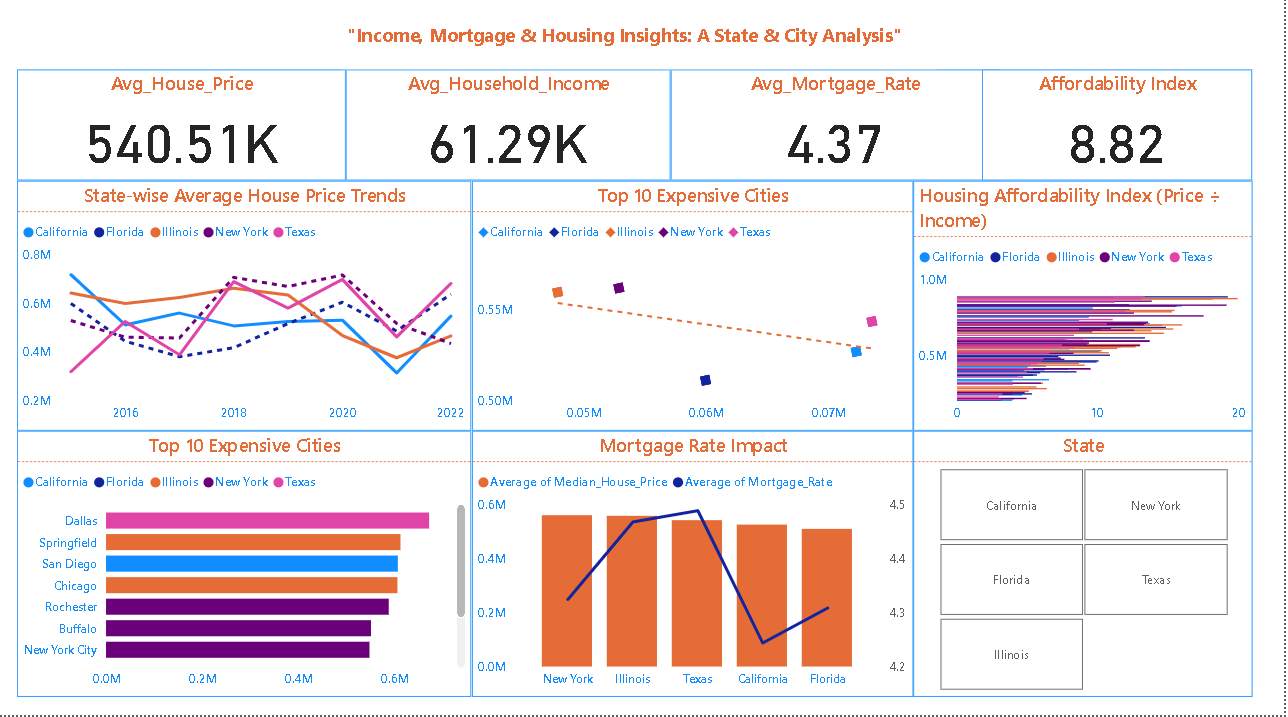

The dashboard page shown, as its layout file describes it:
{"tool":"powerbi","page":{"name":"Dashboard","canvas":[1280,720],"ordinal":0},"visuals":[{"type":"lineChart","title":"State-wise Average House Price Trends","fields":{"Category":["housing_prices.Year"],"Y":["Avg(housing_prices.Median_House_Price)"],"Series":["housing_prices.State"]},"box":[20.4,187.6,452.3,248.7],"z":0},{"type":"barChart","title":"Top 10 Expensive Cities","fields":{"Category":["housing_prices.City"],"Y":["Avg(housing_prices.Median_House_Price)"],"Series":["housing_prices.State"]},"box":[20.4,436.3,452.3,264.7],"z":1000},{"type":"scatterChart","title":"Top 10 Expensive Cities","fields":{"Category":["housing_prices.City"],"X":["Avg(HousingwithIncome.Household_Income)"],"Y":["Avg(HousingwithIncome.Median_House_Price)"],"Series":["HousingwithIncome.State"]},"box":[472.6,187.6,439.2,248.7],"z":2000},{"type":"lineClusteredColumnComboChart","title":"Mortgage Rate Impact","fields":{"Category":["HousingwithIncome.State"],"Y":["Avg(HousingwithIncome.Median_House_Price)","select"],"Y2":["Avg(HousingwithIncome.Mortgage_Rate)"]},"box":[472.6,436.3,439.2,264.7],"z":3000},{"type":"barChart","title":"Housing Affordability Index (Price ÷ Income)","fields":{"Category":["HousingwithIncome.Median_House_Price"],"Y":["HousingwithIncome.Affordability_Index"],"Series":["HousingwithIncome.State"]},"box":[911.8,187.6,337.4,248.7],"z":4000},{"type":"slicer","title":"State","fields":{"Values":["HousingwithIncome.State"]},"box":[911.8,436.3,337.4,264.7],"z":5000},{"type":"card","title":"Avg_House_Price","fields":{"Values":["Avg(housing_prices.Median_House_Price)"]},"box":[20.4,77.1,327.2,110.5],"z":6000},{"type":"card","title":"Avg_Household_Income","fields":{"Values":["Avg(demographics.Household_Income)"]},"box":[347.6,77.1,322.8,110.5],"z":7000},{"type":"card","title":"Avg_Mortgage_Rate","fields":{"Values":["Avg(housing_prices.Mortgage_Rate)"]},"box":[670.4,77.1,327.2,110.5],"z":8000},{"type":"card","title":"Affordability Index","fields":{"Values":["HousingwithIncome.Affordability_Index"]},"box":[980.2,77.1,269,110.5],"z":9000},{"type":"textbox","box":[343.2,24.7,591.9,52.4],"z":10000}]}

Visuals, with their boxes in screenshot pixels (x1, y1, x2, y2), scaled from the page's 1280x720 canvas onto the 1288x717 screenshot:
"State-wise Average House Price Trends" lineChart: [left=21, top=187, right=476, bottom=434]
"Top 10 Expensive Cities" barChart: [left=21, top=434, right=476, bottom=698]
"Top 10 Expensive Cities" scatterChart: [left=476, top=187, right=917, bottom=434]
"Mortgage Rate Impact" lineClusteredColumnComboChart: [left=476, top=434, right=917, bottom=698]
"Housing Affordability Index (Price ÷ Income)" barChart: [left=917, top=187, right=1257, bottom=434]
"State" slicer: [left=917, top=434, right=1257, bottom=698]
"Avg_House_Price" card: [left=21, top=77, right=350, bottom=187]
"Avg_Household_Income" card: [left=350, top=77, right=675, bottom=187]
"Avg_Mortgage_Rate" card: [left=675, top=77, right=1004, bottom=187]
"Affordability Index" card: [left=986, top=77, right=1257, bottom=187]
textbox: [left=345, top=25, right=941, bottom=77]
